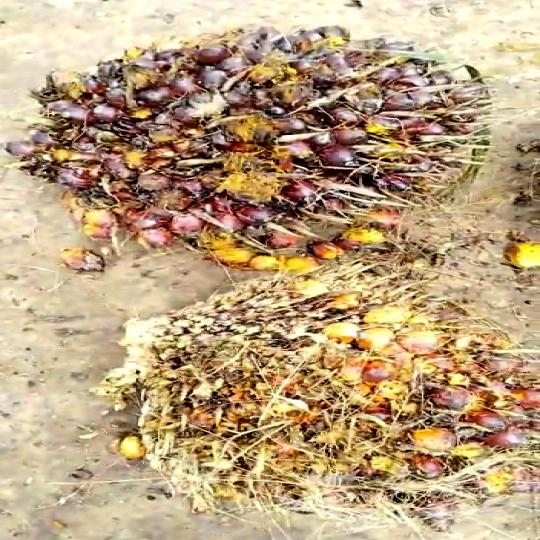masak: (1, 22, 511, 264), (77, 276, 540, 530)
